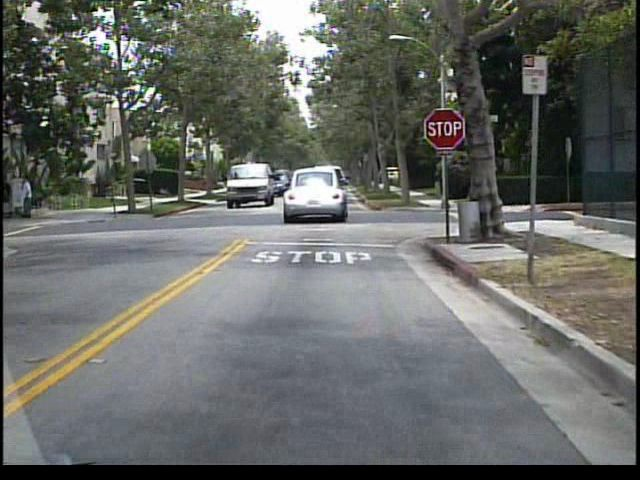person: (1, 172, 19, 219), (23, 170, 38, 222)
